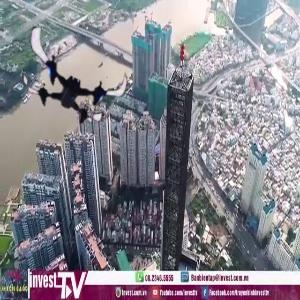drone: (21, 29, 131, 139)
